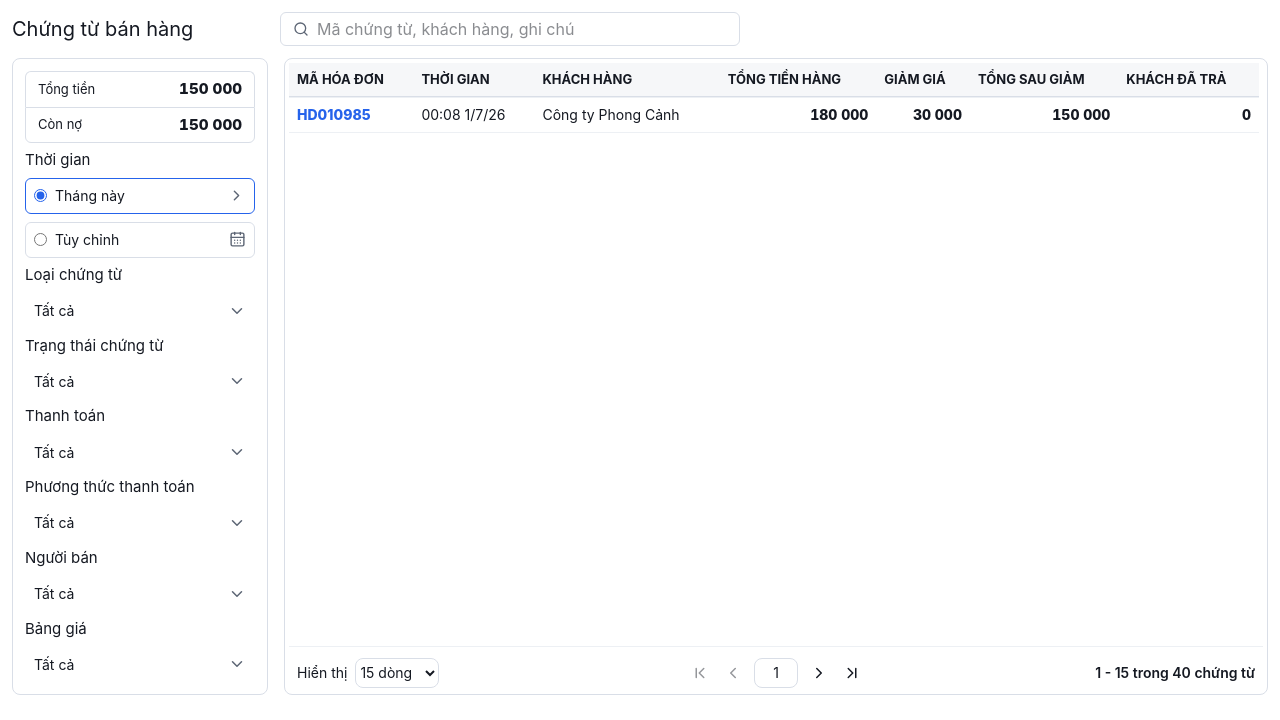
Test case: uses 15-row pagination range and navigates pages through the list footer
Expected: the text "1 - 15 trong 40 chứng từ" is shown, left=1095, top=662, right=1255, bottom=683
Expected: the field named "Trang hiện tại" holds "1", left=754, top=658, right=798, bottom=688
What coordinates should you click on to do the following:
click the button named "Trang sau"
I would click on:
 (819, 673)
Its box is left=806, top=660, right=832, bottom=686.
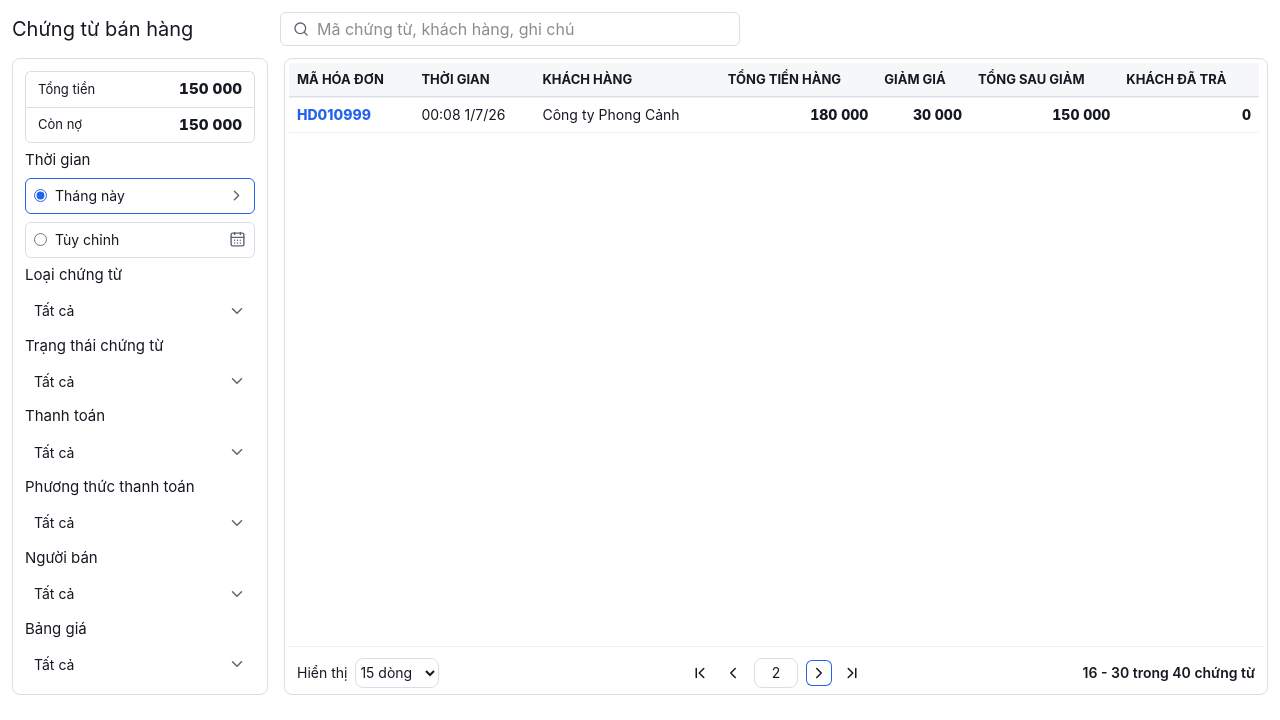
Expected: the text "16 - 30 trong 40 chứng từ" is shown, left=1083, top=662, right=1255, bottom=683
Expected: the field named "Trang hiện tại" holds "2", left=754, top=658, right=798, bottom=688
Expected: the text "HD010999" is shown, left=297, top=106, right=371, bottom=124
